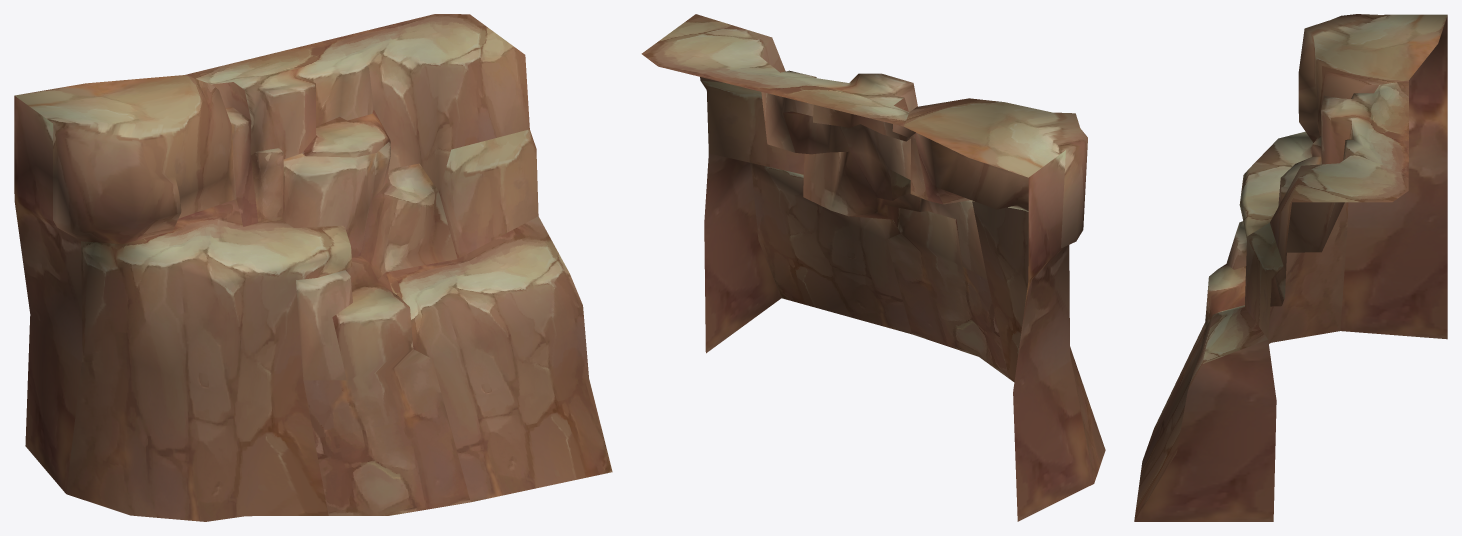
Rendered from Map_11_stone02.FBX.
3 views of the same model, side by side, from view 1: azimuth 30°, elevation 25°; view 2: azimuth 150°, elevation 25°; view 3: azimuth 270°, elevation 25° (orthographic). The views are drawn at different scales.
Parts seen in each view (by area): view 1: Map_11_stone02; view 2: Map_11_stone02; view 3: Map_11_stone02.
Part boxes in pixels (x1,y1,x2,y2): Map_11_stone02: [14, 14, 612, 521]; Map_11_stone02: [641, 14, 1105, 521]; Map_11_stone02: [1134, 14, 1447, 521].
Bounding box in the file's own units: 527 × 366 × 413.
